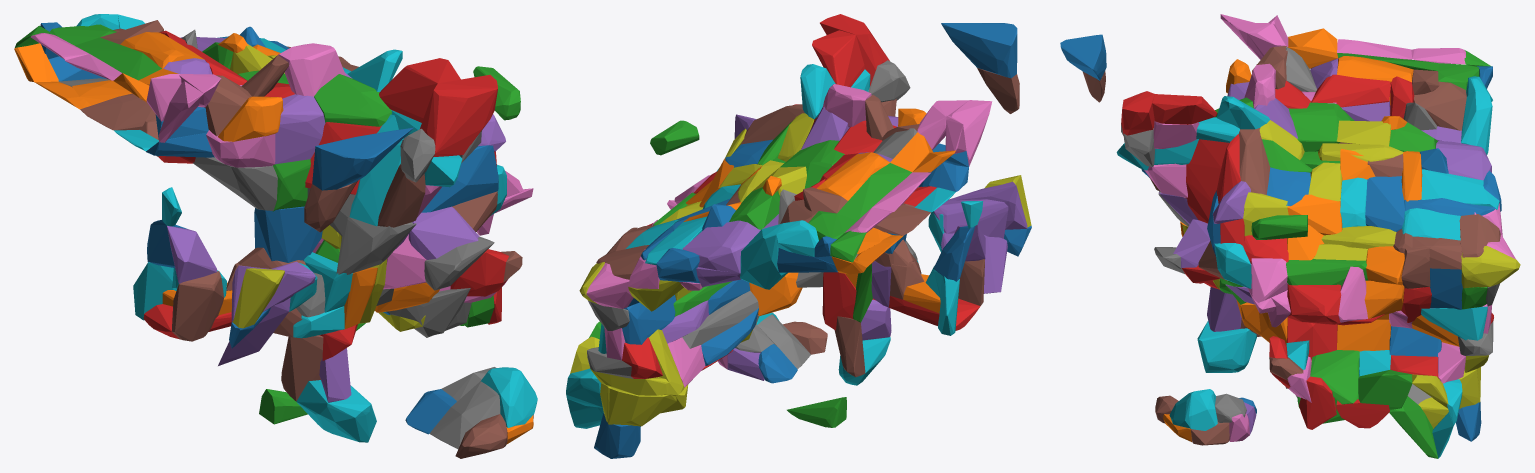
Rendered from decomp.obj.
3 renders of one model, left to right at view 1: azimuth 30°, elevation 25°; view 2: azimuth 150°, elevation 25°; view 3: azimuth 270°, elevation 25°, orthographic. The views are drawn at different scales.
Visible parts, largest first — view 1: /home/hongchix/main/codes/outdoor_relighting_nerf/results/colmap; view 2: /home/hongchix/main/codes/outdoor_relighting_nerf/results/colmap; view 3: /home/hongchix/main/codes/outdoor_relighting_nerf/results/colmap.
Part boxes in pixels (x1,y1,x2,y2): /home/hongchix/main/codes/outdoor_relighting_nerf/results/colmap: [14, 14, 537, 458]; /home/hongchix/main/codes/outdoor_relighting_nerf/results/colmap: [566, 14, 1031, 458]; /home/hongchix/main/codes/outdoor_relighting_nerf/results/colmap: [1060, 14, 1520, 458].
Size of the model in its own units: 1.72 by 1.72 by 2.34.
